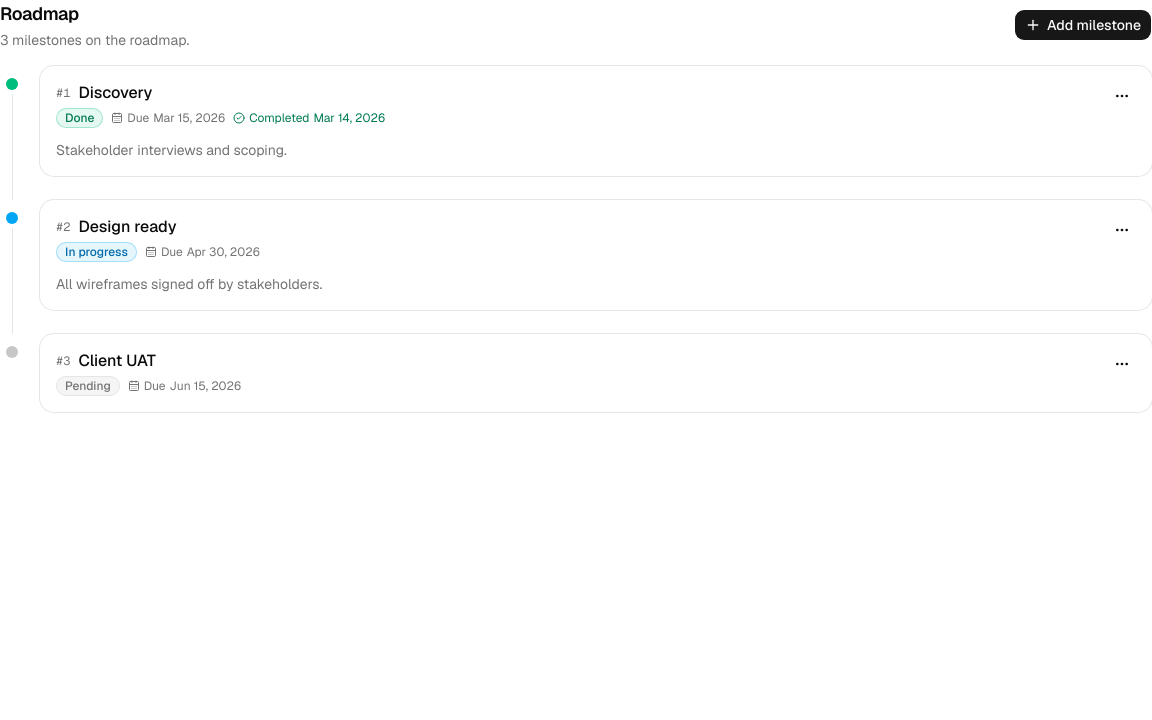
Test case: ProjectMilestonesSection › opens the create sheet when the Add button is clicked
What coordinates should you click on to do the following:
click the button "Add milestone"
I would click on:
 (1083, 25)
Its box is [1014,9,1151,41].
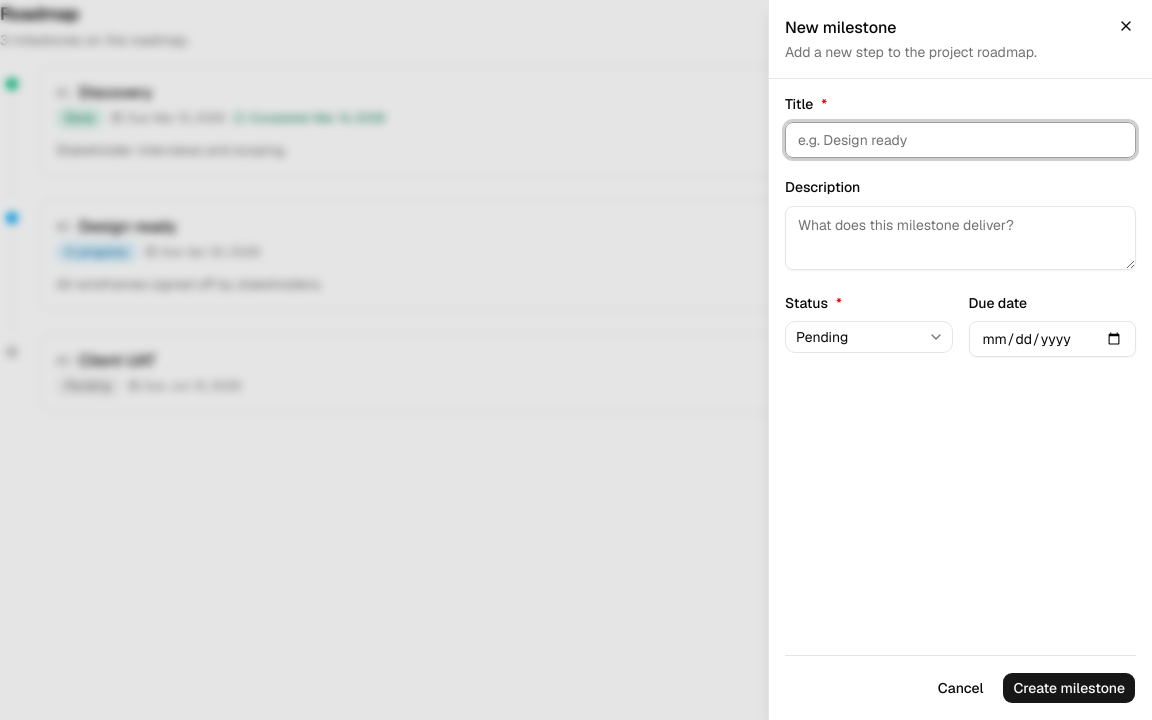
expect the form "Create milestone" is shown: met, box [769,79,1151,719]
